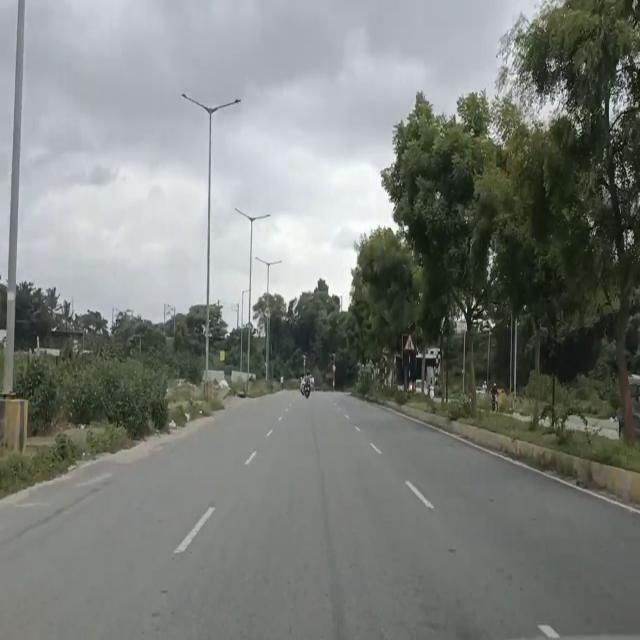bien_cam: (403, 332, 416, 353)
